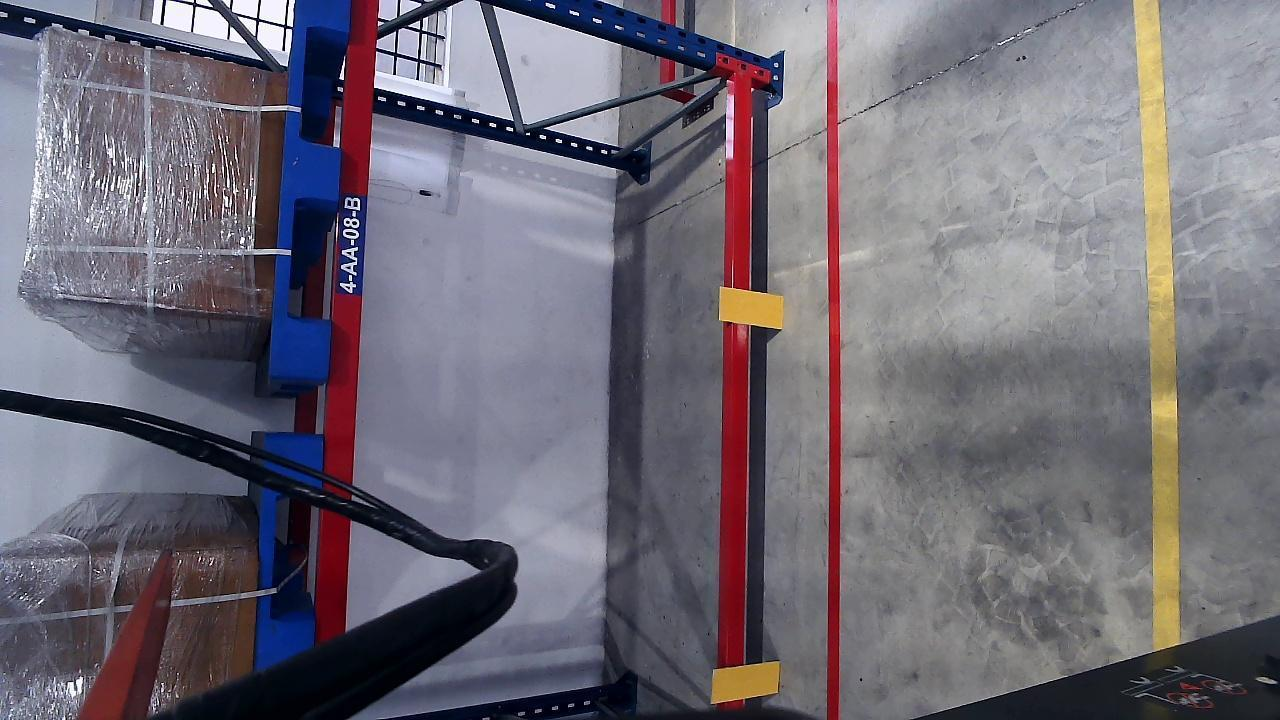red_line: (822, 0, 844, 720)
yellow_line: (1135, 0, 1181, 653)
